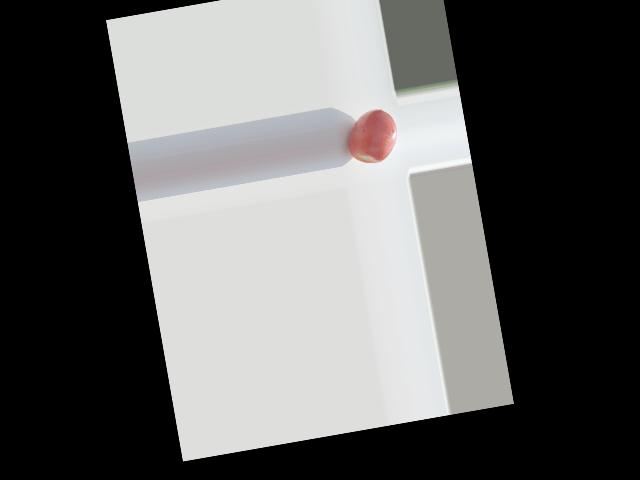tomato: (343, 106, 401, 166)
